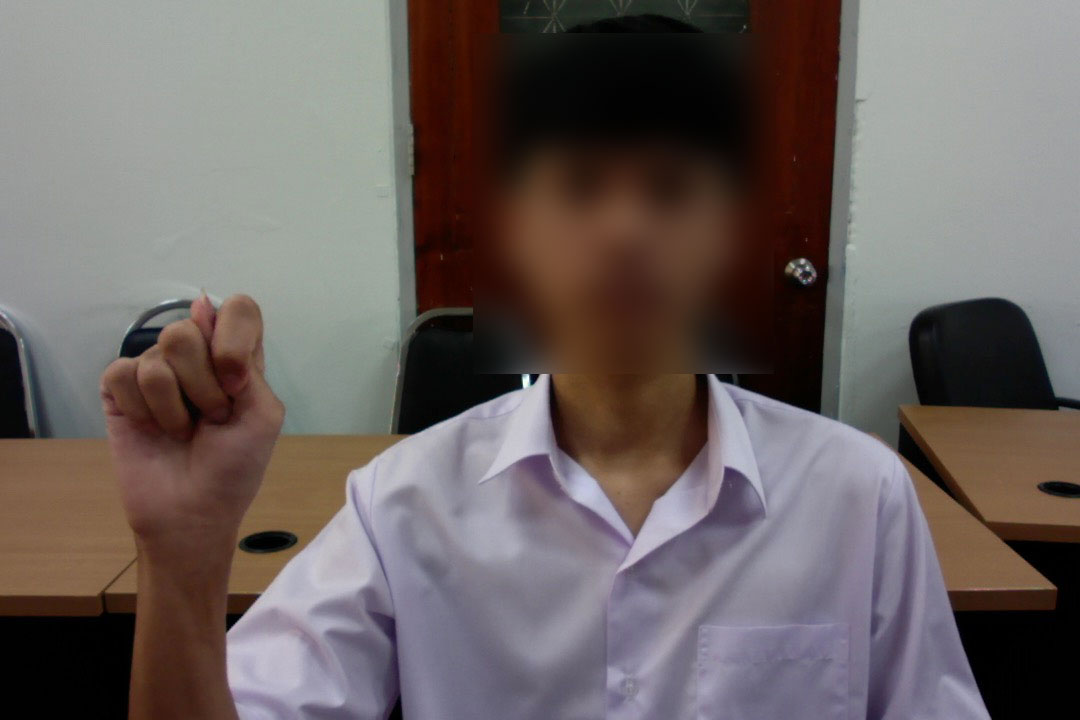tor: (92, 281, 290, 566)
